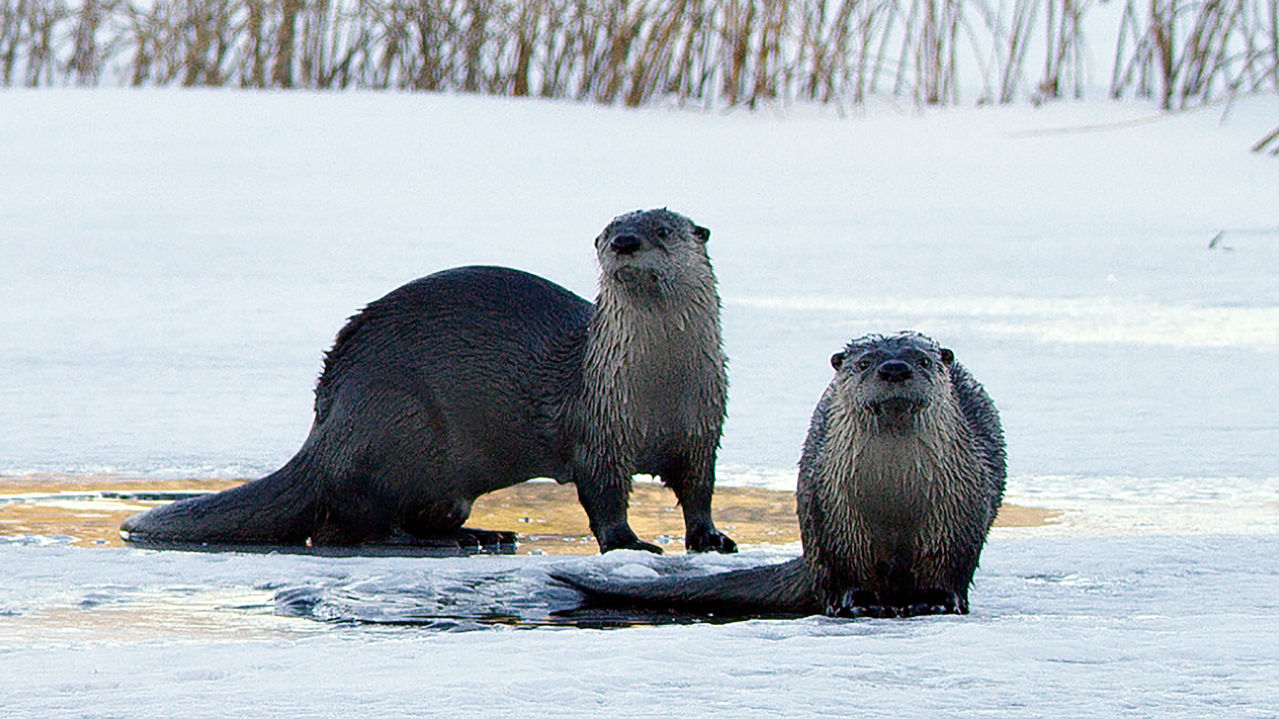otter: (167, 169, 739, 637), (770, 294, 1059, 632)
